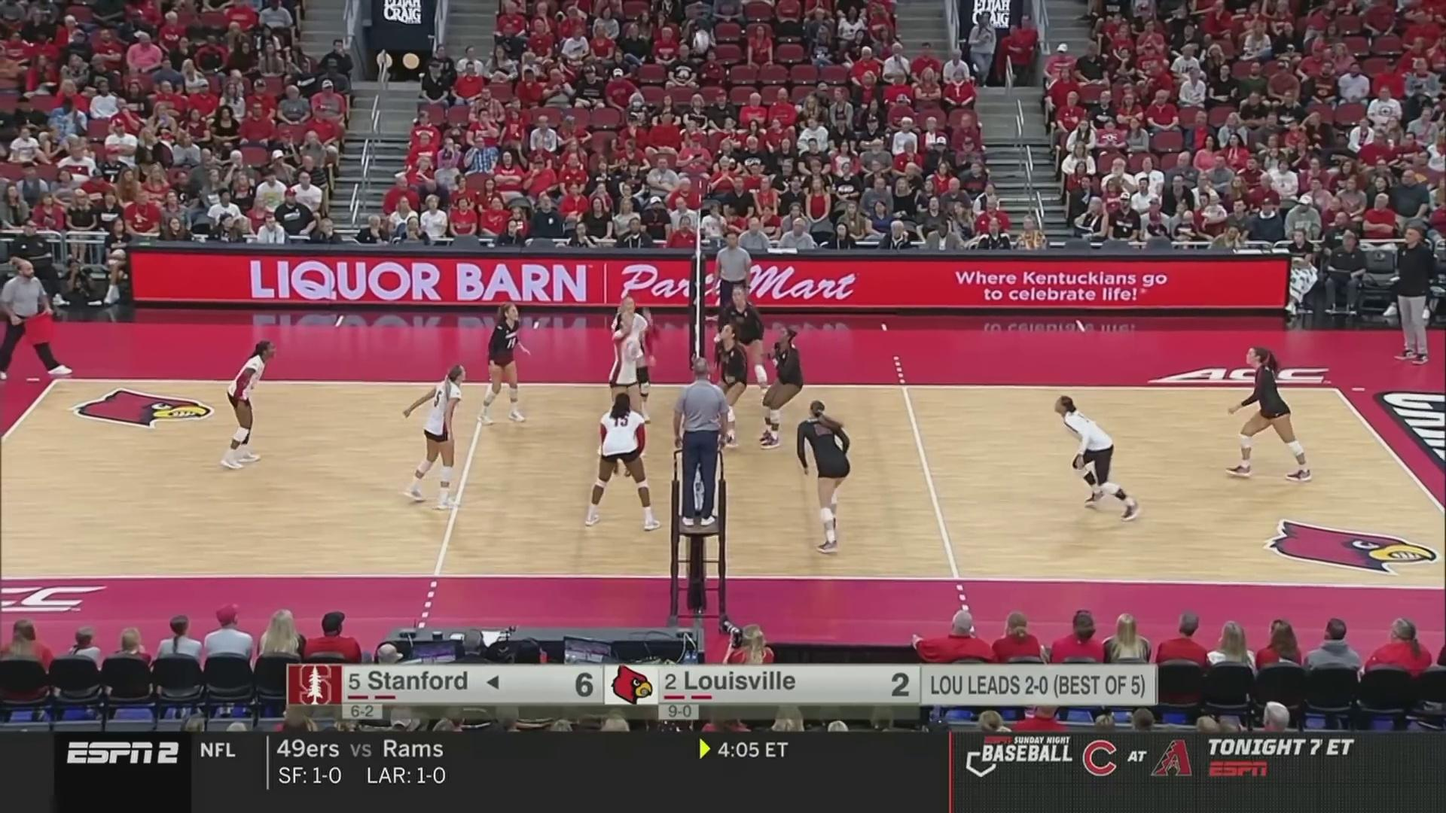player: (1225, 346, 1318, 483), (1054, 394, 1142, 519), (590, 387, 660, 530), (400, 365, 467, 506), (795, 404, 855, 554), (218, 341, 279, 470), (708, 318, 766, 448), (608, 308, 653, 473), (477, 304, 531, 425), (606, 298, 654, 423), (759, 324, 803, 447), (728, 283, 772, 405)
refree: (668, 359, 726, 529), (0, 264, 67, 381), (711, 229, 753, 347)
